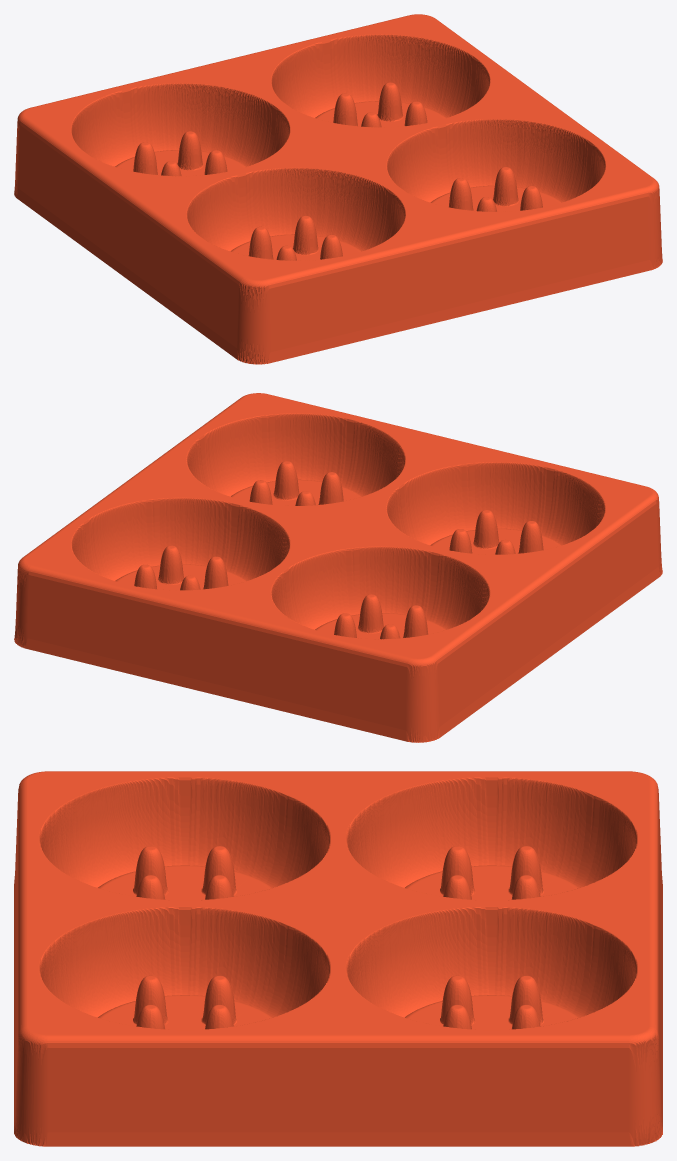
The model's file is mold.glb.
3 views of the same model, one above another, from view 1: azimuth 30°, elevation 25°; view 2: azimuth 150°, elevation 25°; view 3: azimuth 270°, elevation 25° (orthographic). The views are drawn at different scales.
Visible parts, largest first — view 1: geometry_0; view 2: geometry_0; view 3: geometry_0.
Part boxes in pixels (x1=…): geometry_0: x1=14, y1=14, x2=662, y2=364; geometry_0: x1=14, y1=393, x2=662, y2=742; geometry_0: x1=14, y1=771, x2=662, y2=1146.
Bounding box in the file's own units: 0.1721 × 0.031 × 0.1721.
